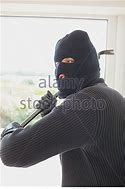crowbar: (1, 48, 115, 139)
